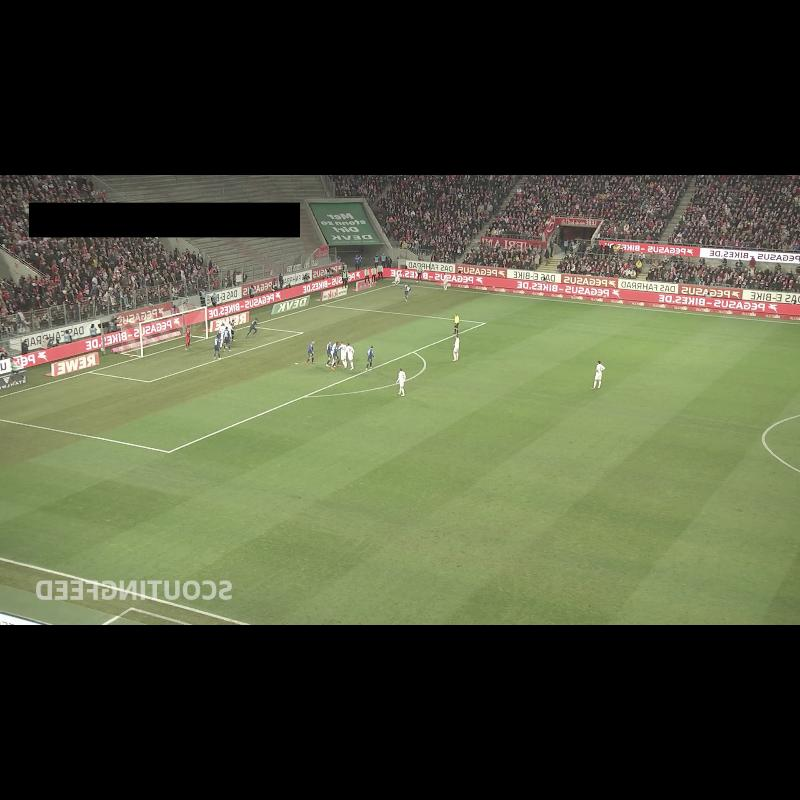cross_recipient_zone: (0, 305, 486, 452)
crossing_player_zone: (324, 284, 660, 336)
pitch: (0, 283, 800, 625)
